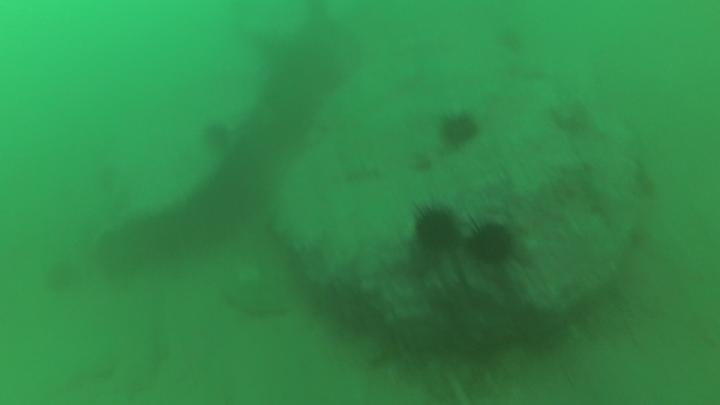echinus: (465, 216, 517, 273), (411, 202, 458, 260), (435, 109, 484, 154), (206, 118, 231, 154)
